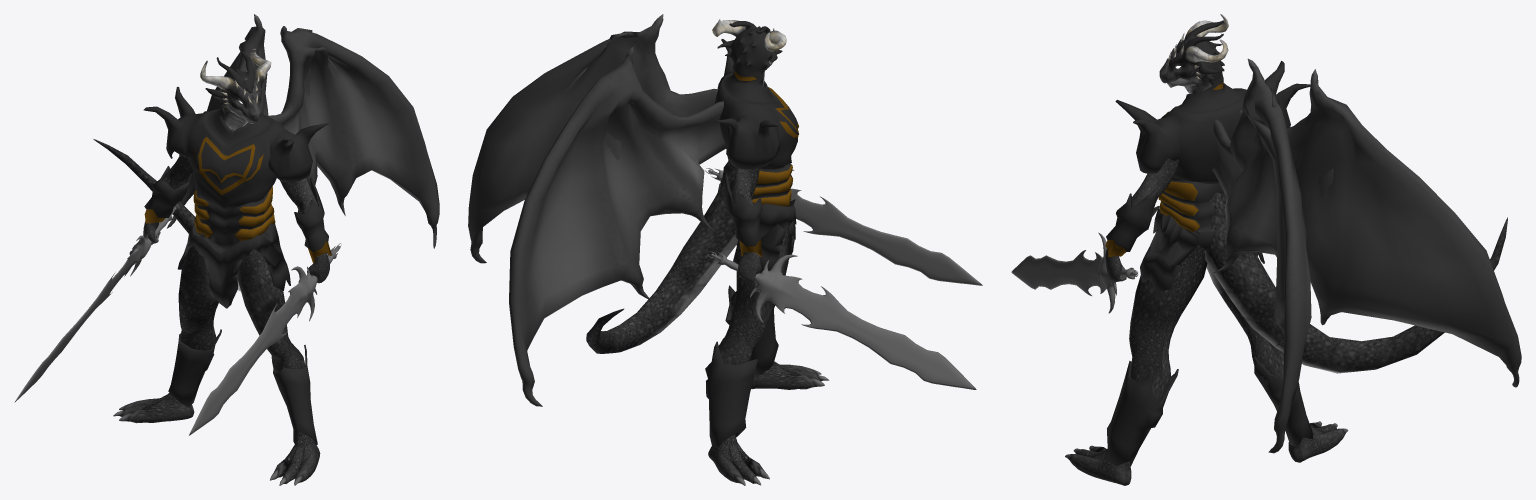
Rendered from Bahamut.glb.
The picture shows the model from 3 angles, left to right: view 1: azimuth 30°, elevation 25°; view 2: azimuth 150°, elevation 25°; view 3: azimuth 270°, elevation 25°; orthographic projection. The views are drawn at different scales.
Visible parts, largest first — view 1: body; view 2: body; view 3: body.
Part boxes in pixels (x1,y1,x2,y2): body: [14, 14, 439, 485]; body: [468, 14, 982, 485]; body: [1011, 14, 1521, 485].
Bounding box in the file's own units: 1.8 × 1.48 × 1.54.
Materials: 6 (2 with a texture image).
